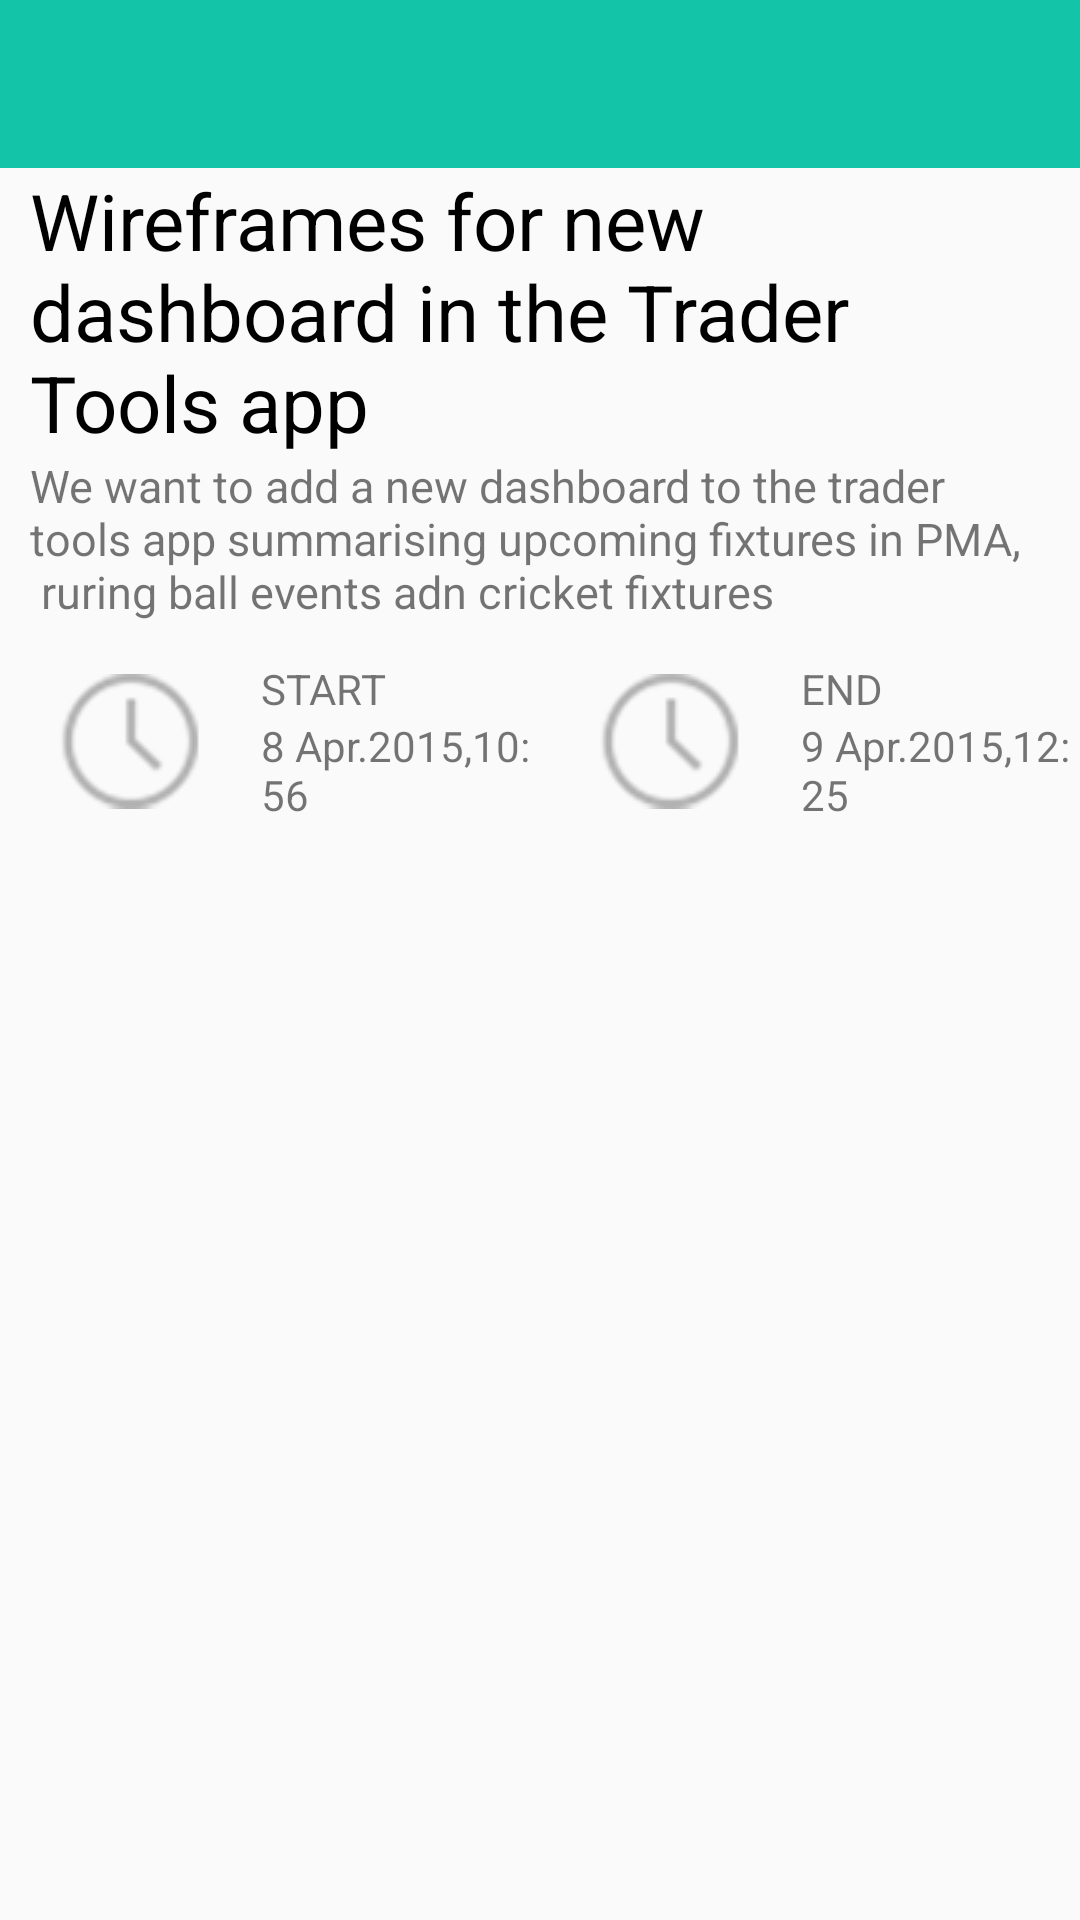

Locate icon controls on the screen. Image size 1080x1920, boxes as region(x1, y1, x2, y2).
time: region(63, 674, 198, 809), region(603, 674, 738, 809)
